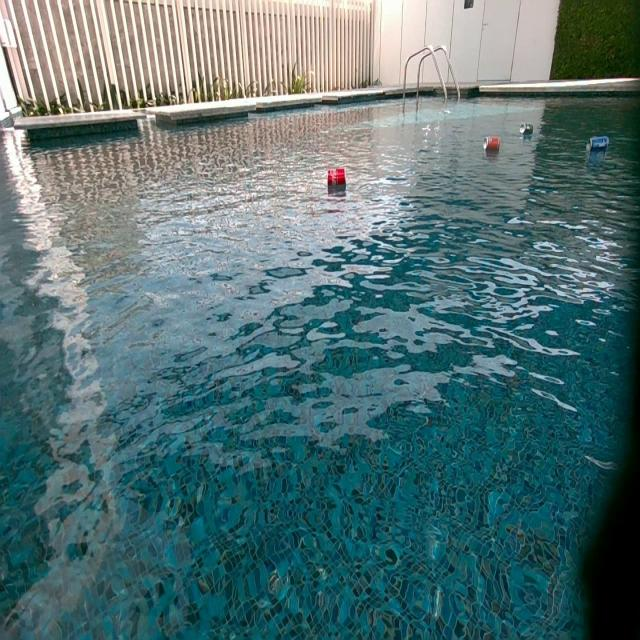Cans: (587, 135, 609, 154), (326, 168, 345, 188), (484, 136, 501, 154), (520, 123, 534, 139)
